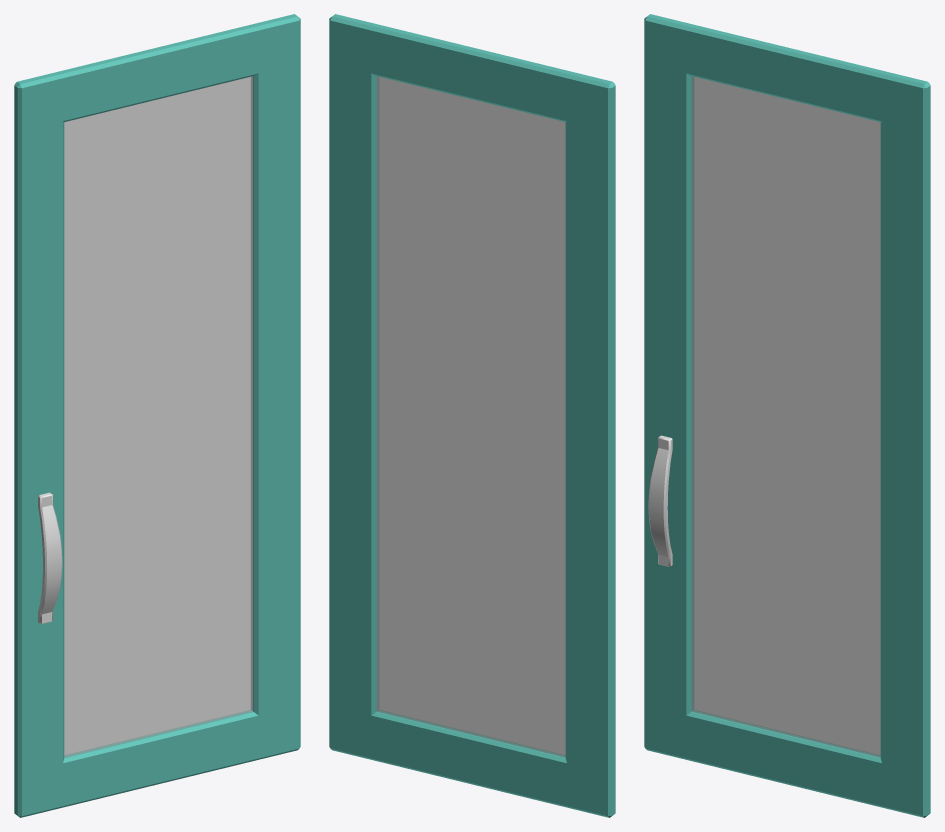
Rendered from Bookcase_door_2.002.fbx.
3 views of the same model, side by side, from view 1: azimuth 30°, elevation 25°; view 2: azimuth 150°, elevation 25°; view 3: azimuth 330°, elevation 25° (orthographic).
Parts seen in each view (by area): view 1: Bookcase_door_2.002; view 2: Bookcase_door_2.002; view 3: Bookcase_door_2.002.
Part boxes in pixels (box(x1,y1,x2,y2)): Bookcase_door_2.002: box(14, 14, 300, 817); Bookcase_door_2.002: box(329, 14, 615, 817); Bookcase_door_2.002: box(644, 14, 930, 817).
Size of the model in its own units: 0.4975 by 1.23 by 0.053.
